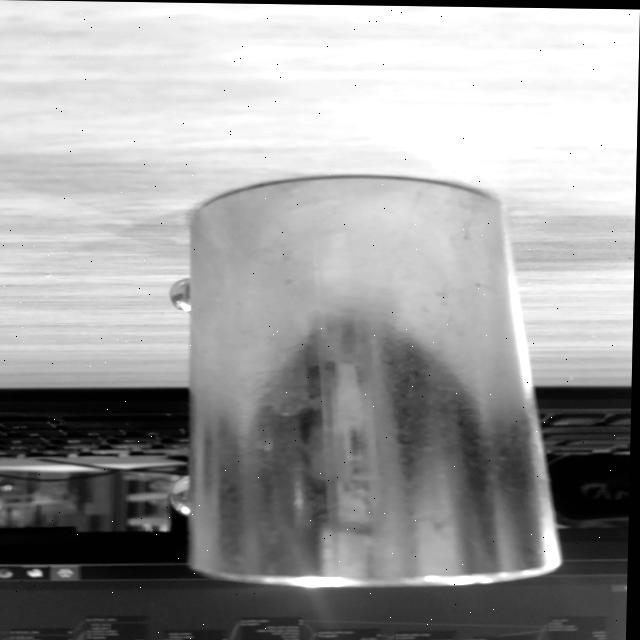Co_Nho: (177, 171, 563, 594)
